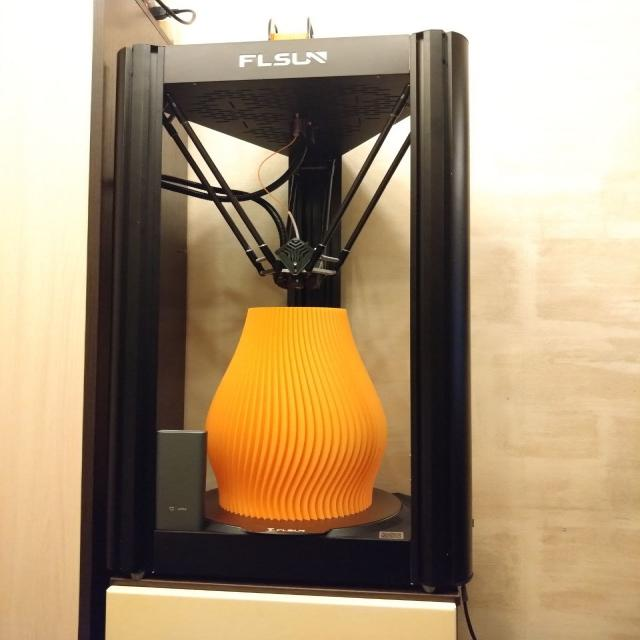Without deffect: (199, 296, 393, 529)
